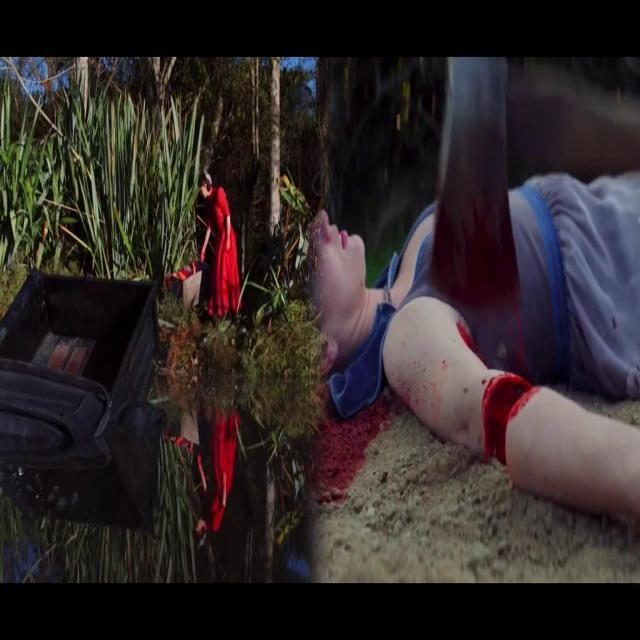flood: (458, 287, 548, 489)
